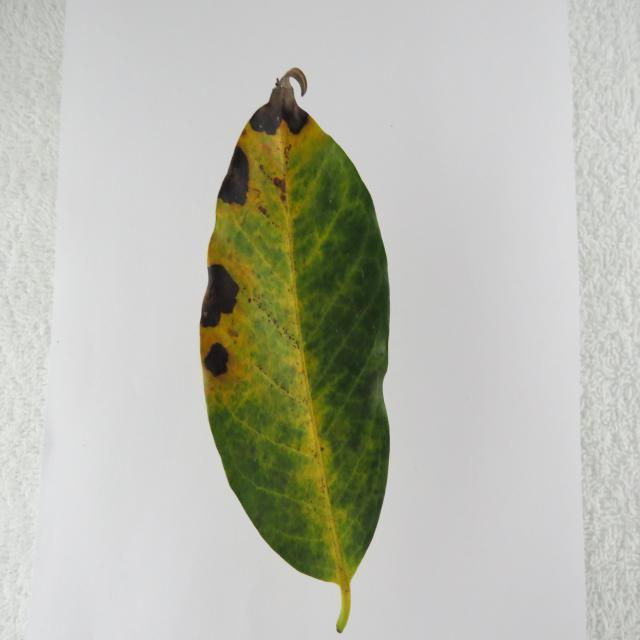DeficienciaNutricional-Potasio: (200, 68, 390, 632)
